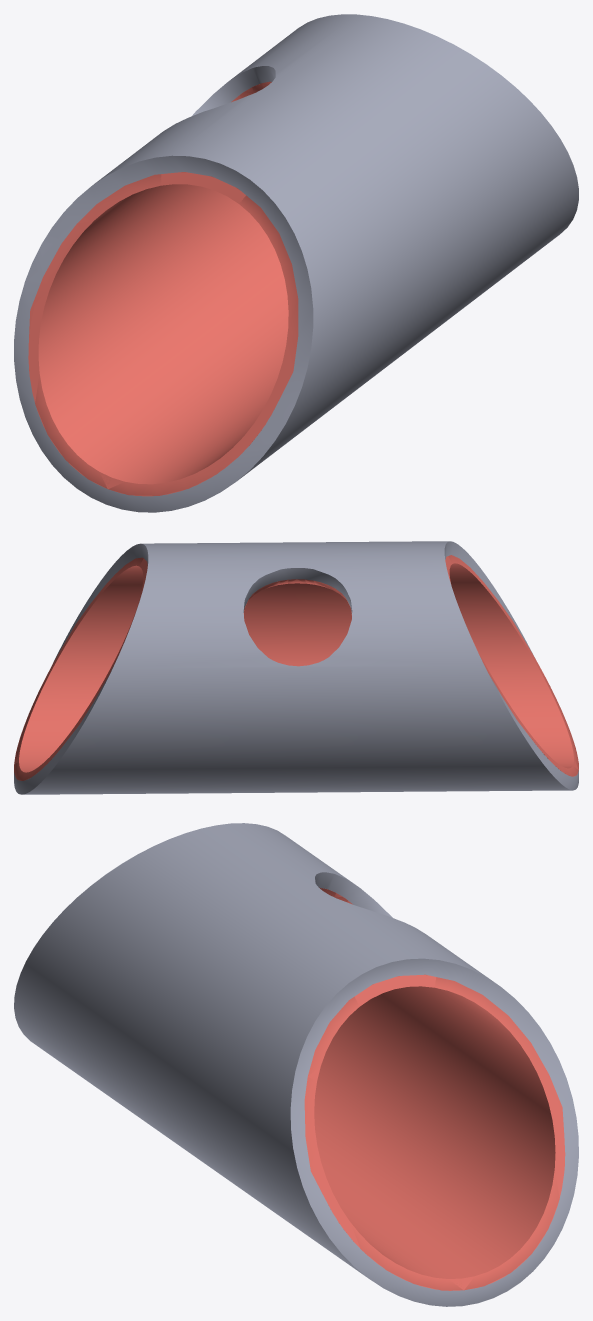
Rendered from tunel.fbx.
3 views of the same model, one above another, from view 1: azimuth 30°, elevation 25°; view 2: azimuth 150°, elevation 25°; view 3: azimuth 270°, elevation 25° (orthographic). The views are drawn at different scales.
Parts seen in each view (by area): view 1: tunel; view 2: tunel; view 3: tunel.
Boxes of the visible parts, <box> form: tunel: <box>14,14,578,512</box>; tunel: <box>14,541,578,794</box>; tunel: <box>14,823,578,1306</box>.
Bounding box in the file's own units: 734 × 335 × 612.
